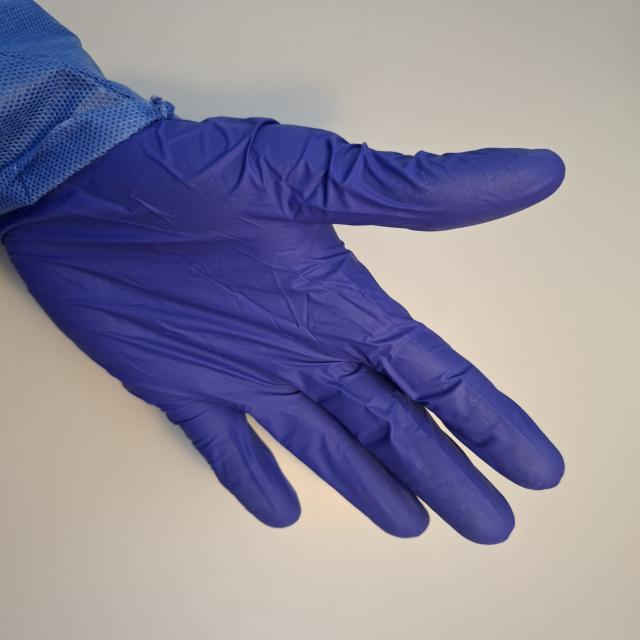glove_on: (6, 106, 572, 548)
